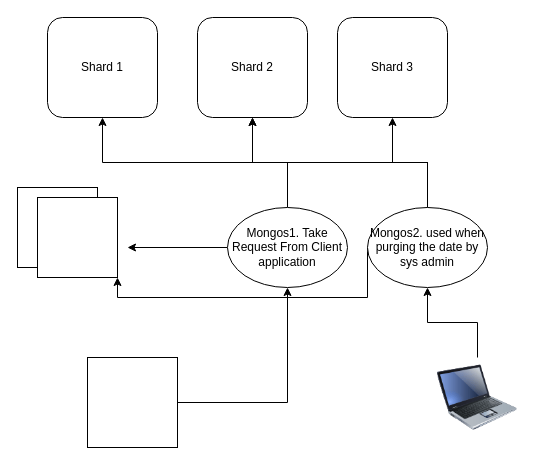
Image size: 538x476. Some labels were removed from this diagram. The shapes that lost their labels are listed below. From the top down, each one's box as (x1, y1, x2, y2) in pixels, then its label:
(36, 196, 118, 278): Config Server
(86, 356, 178, 448): Client Application
(437, 357, 517, 437): Admin's System
